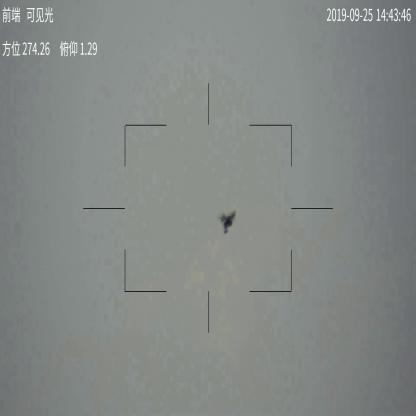uav: (219, 209, 242, 235)
